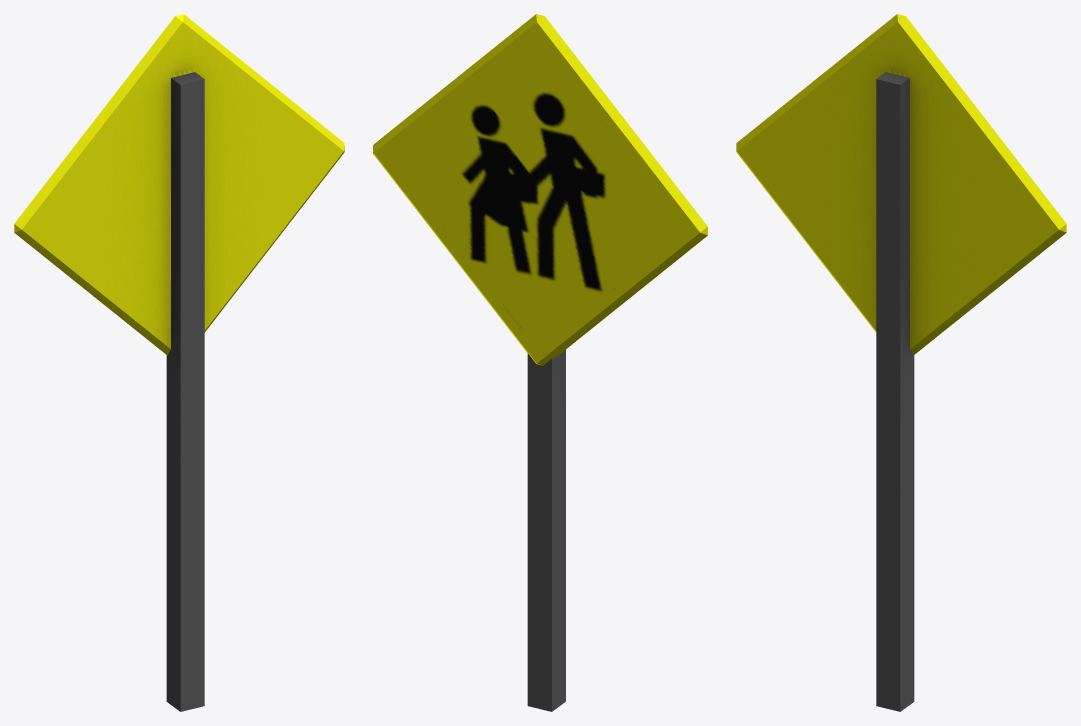
File: signal2.glb
3 views of the same model, side by side, from view 1: azimuth 30°, elevation 25°; view 2: azimuth 150°, elevation 25°; view 3: azimuth 330°, elevation 25° (orthographic).
Visible parts, largest first — view 1: Cube; view 2: Cube; view 3: Cube.
Part boxes in pixels (left/top/right/bottom): Cube: left=14, top=14, right=344, bottom=711; Cube: left=373, top=14, right=707, bottom=711; Cube: left=736, top=14, right=1066, bottom=711.
Bounding box in the file's own units: 2.76 × 5.46 × 0.2391.
1 material, 1 textured.
